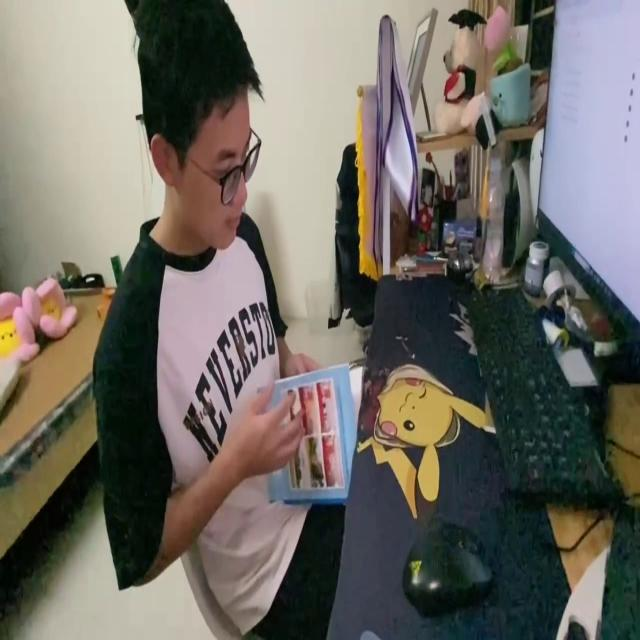book: (254, 362, 364, 510)
laptop: (534, 0, 640, 367)
student: (91, 0, 347, 633)
